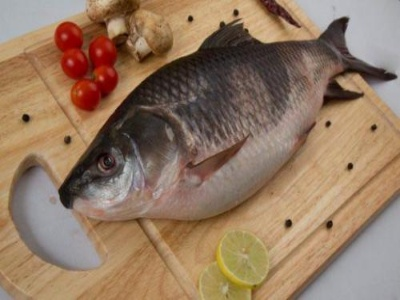rohu: (60, 14, 400, 226)
